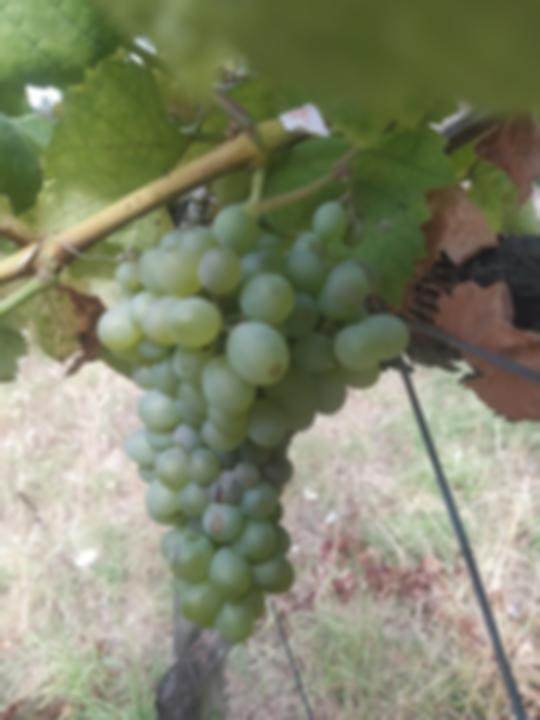grape: (94, 197, 412, 646)
